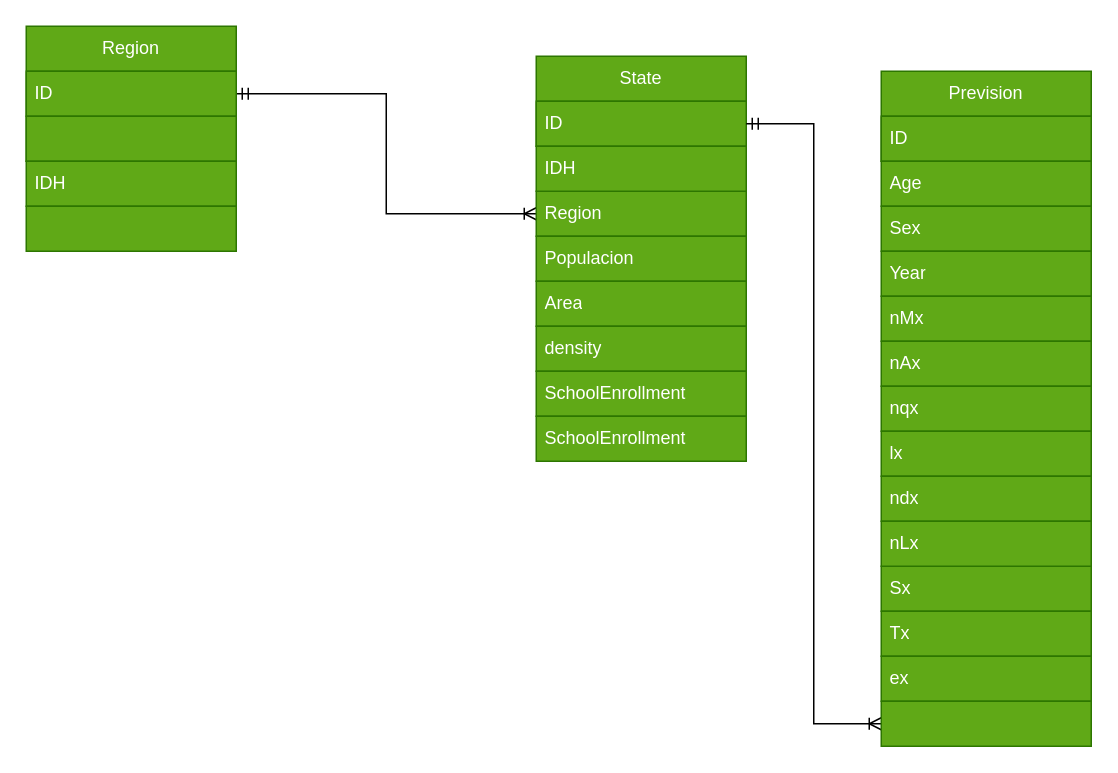
Some shapes in this 1118 by 773 pixel diagram are drawn without their labels. The shapes that lost their labels are listed below. From the top down, each one's centre as x and y in pixels, then its label:
the point at 130,138: Name
the point at 985,723: S tate
